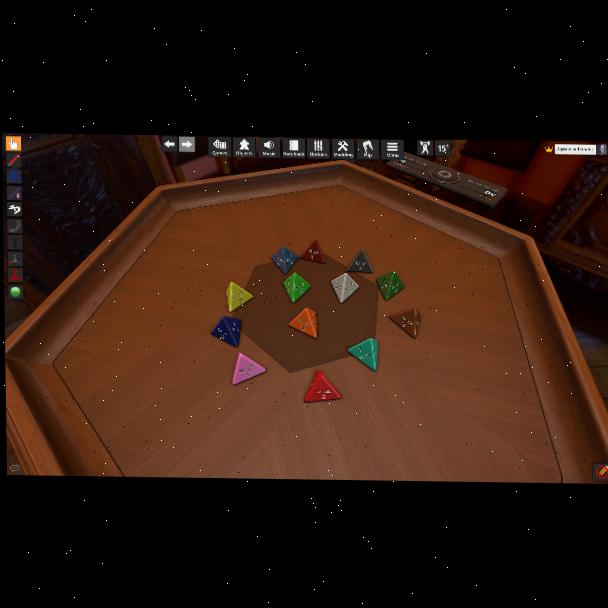d4: (232, 352, 267, 385), (304, 371, 341, 402), (348, 339, 378, 372), (330, 272, 358, 304), (283, 273, 311, 304), (211, 317, 239, 348), (289, 308, 317, 339), (391, 307, 418, 339), (226, 282, 253, 313), (376, 271, 402, 301), (272, 245, 298, 275), (298, 239, 325, 264), (347, 249, 373, 274)
